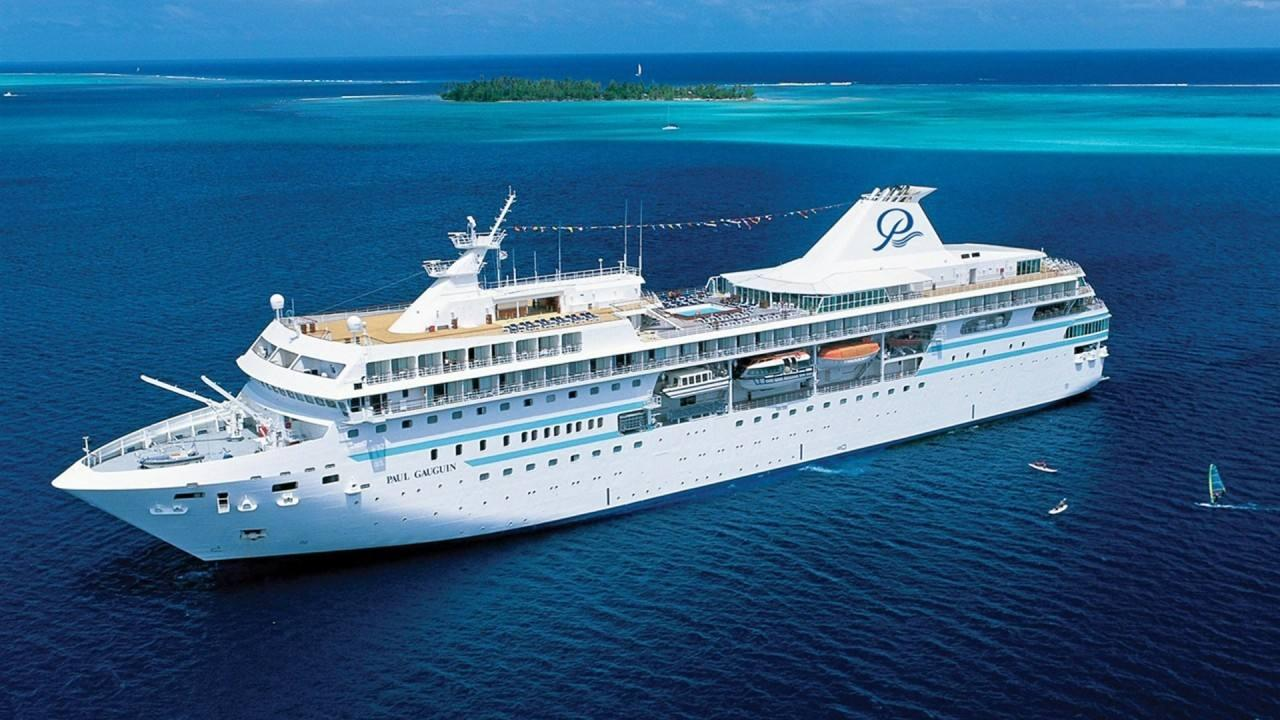fanchuan: (1195, 464, 1244, 514)
youlun: (47, 177, 1115, 573)
